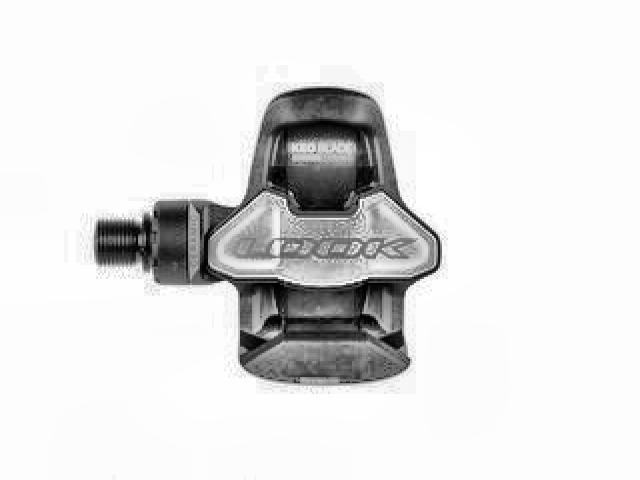pedal: (84, 84, 443, 389)
